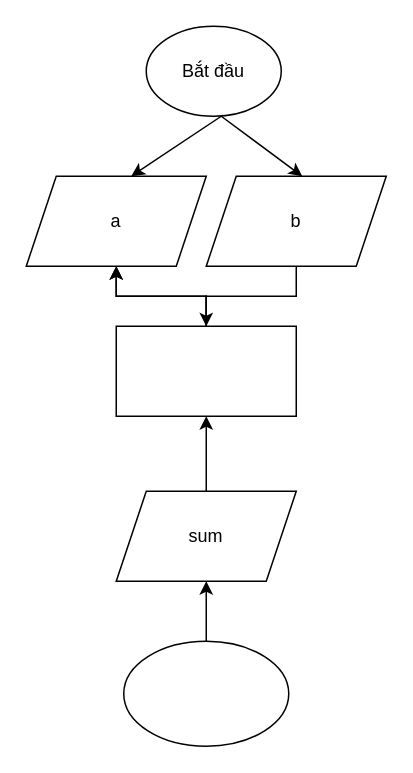
Image size: 413x773. Some labels were removed from this diagram. The shapes that lost their labels are listed below. From the top down, each one's centre as x and y in pixels, then its label:
At point 205,370: "sum = a + b".
At point 205,693: "End".
